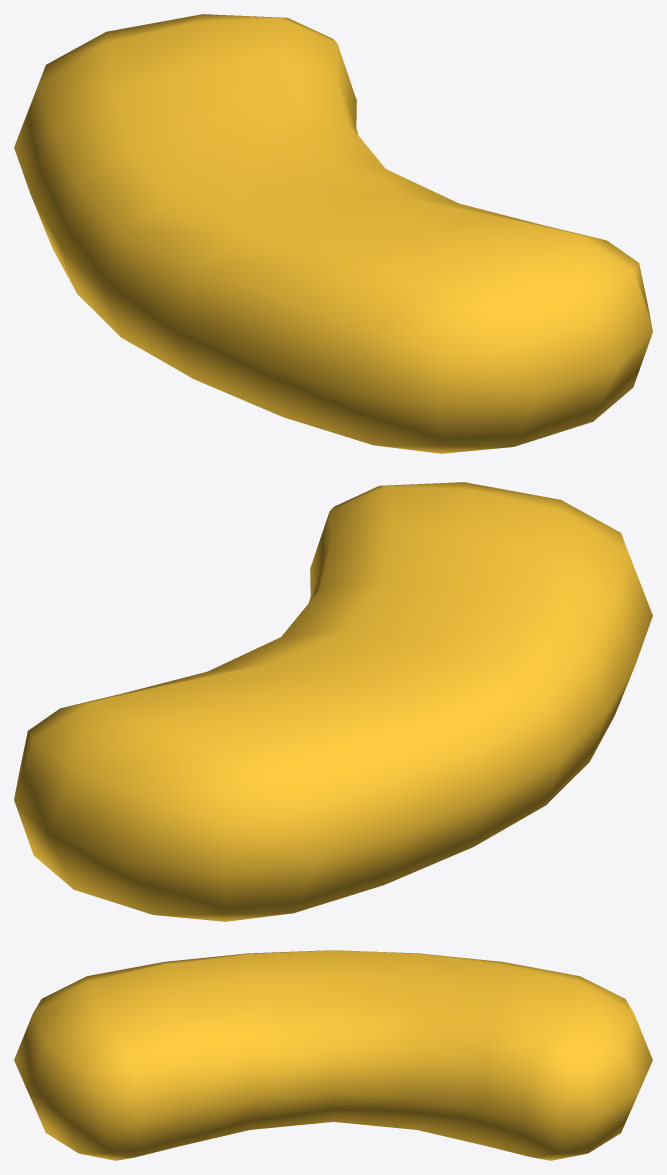
The model's file is Jelly Bean Yellow.fbx.
The picture shows the model from 3 angles, top to bottom: view 1: azimuth 30°, elevation 25°; view 2: azimuth 150°, elevation 25°; view 3: azimuth 270°, elevation 25°; orthographic projection. The views are drawn at different scales.
Visible parts, largest first — view 1: Jelly Bean Yellow; view 2: Jelly Bean Yellow; view 3: Jelly Bean Yellow.
Boxes of the visible parts, left/top/right/bottom form: Jelly Bean Yellow: left=14, top=14, right=652, bottom=453; Jelly Bean Yellow: left=14, top=482, right=652, bottom=921; Jelly Bean Yellow: left=14, top=950, right=652, bottom=1160.
Size of the model in its own units: 0.0763 by 0.0329 by 0.1467.
